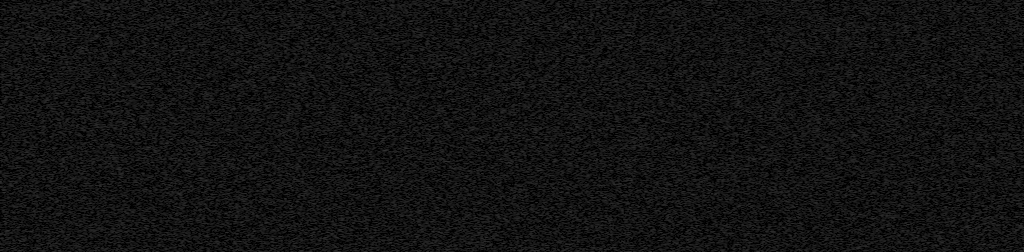wv_am: (915, 0, 920, 252)
wv_cw: (936, 0, 942, 252)
wv_usb: (234, 0, 240, 252), (165, 178, 170, 217), (165, 20, 170, 52), (96, 165, 100, 196), (165, 124, 170, 145), (165, 218, 170, 238), (165, 96, 170, 115), (96, 97, 100, 120), (165, 1, 170, 19), (165, 146, 170, 163), (96, 210, 100, 227), (96, 21, 100, 37), (96, 38, 100, 53), (96, 57, 100, 71), (166, 57, 170, 70), (96, 229, 100, 238), (96, 155, 100, 164), (96, 121, 100, 130), (165, 246, 170, 252), (165, 171, 170, 177), (96, 13, 100, 20), (166, 86, 169, 95), (165, 239, 170, 244), (96, 246, 100, 252), (96, 197, 99, 205), (96, 136, 99, 144), (96, 1, 100, 7), (96, 81, 100, 86), (166, 78, 169, 84), (166, 116, 169, 122), (96, 131, 100, 135), (166, 166, 170, 170), (166, 71, 169, 76), (96, 149, 99, 154), (96, 239, 100, 242), (96, 206, 100, 209), (96, 145, 100, 148)
